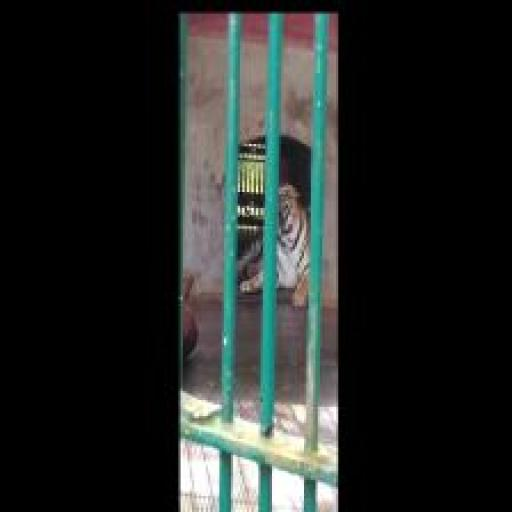Tiger: (235, 176, 312, 313)
